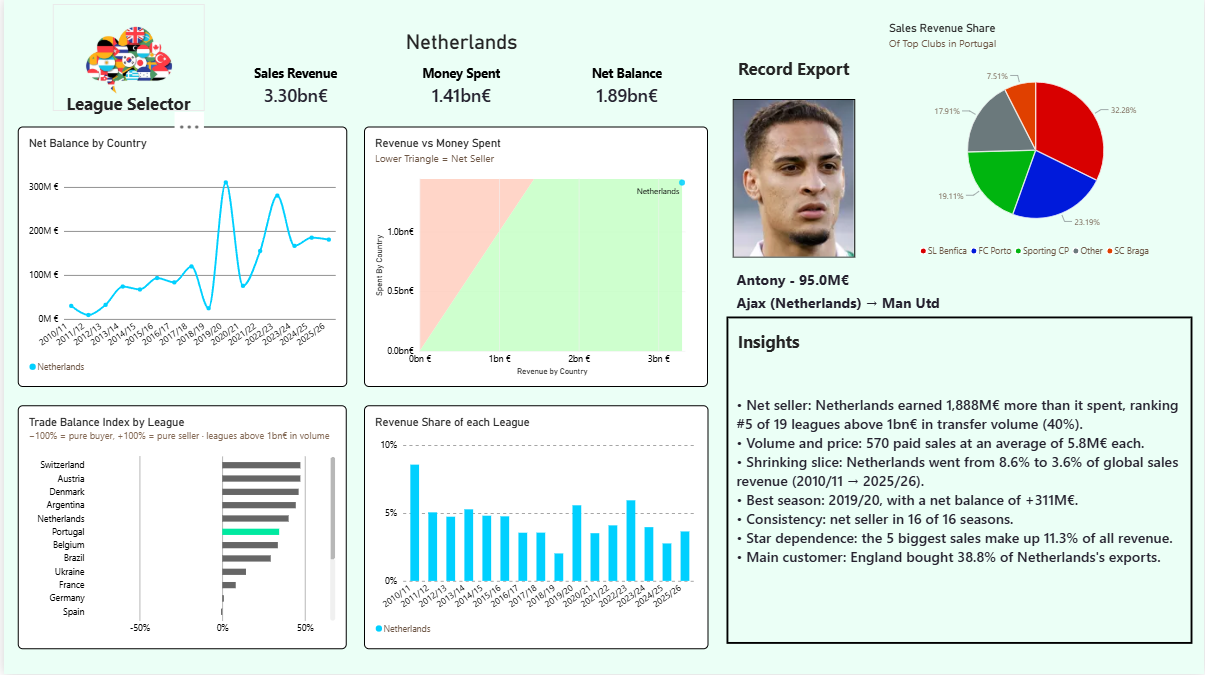

The dashboard page shown, as its layout file describes it:
{"tool":"powerbi","page":{"name":"Leagues","canvas":[1920,1080],"ordinal":0},"visuals":[{"type":"cardVisual","fields":{"Data":["_Measures.Card Revenue","_Measures.Card Spend","_Measures.Card Net Balance"]},"box":[338,50,788,126],"z":0},{"type":"lineChart","title":"Net Balance by Country","fields":{"Category":["Dates.Season"],"Series":["Countries.Country"],"Y":["_Measures.Net Balance by Country"]},"box":[21.4,204.3,527.1,417.1],"z":1000},{"type":"scatterChart","title":"Revenue vs Money Spent","fields":{"Category":["Countries.Country"],"Series":["Countries.Country"],"X":["_Measures.Revenue by Country"],"Y":["_Measures.Spend by Country"]},"box":[575.7,204.3,550,417.1],"z":2000},{"type":"clusteredBarChart","title":"Trade Balance Index by League","fields":{"Category":["Countries.Country"],"Y":["_Measures.Trade Balance Index"]},"box":[21.8,650,526.4,390],"z":3000},{"type":"clusteredColumnChart","title":"Revenue Share of each League","fields":{"Category":["Dates.Season"],"Series":["Countries.Country"],"Y":["_Measures.Revenue Share"]},"box":[575.5,650,550.9,390],"z":4000},{"type":"pieChart","title":"Sales Revenue Share","fields":{"Category":["clubs.name (groups)"],"Y":["_Measures.Sales Revenue"]},"box":[1400,22.9,501.4,411.4],"z":5000},{"type":"image","box":[1165.7,159,195.8,253.3],"z":6000},{"type":"cardVisual","fields":{"Data":["_Measures.Top Sale Label","_Measures.Top Sale Route"]},"box":[1155.7,434.3,745.7,65.7],"z":7000},{"type":"textbox","box":[1161.4,92.9,202.9,45.7],"z":8000},{"type":"cardVisual","fields":{"Data":["_Measures.Insights Leagues"]},"box":[1155.5,500.4,745.5,539.8],"z":9000},{"type":"textbox","box":[1174.5,529.6,610,48],"z":10000},{"type":"shape","box":[1156,508,745.5,523.8],"z":11000},{"type":"image","box":[78.6,8.6,244.3,168.6],"z":12000},{"type":"textbox","box":[100,148.6,201.7,48.3],"z":13502}]}

Visuals, with their boxes in screenshot pixels (x1, y1, x2, y2), scaled from the page's 1920x1080 canvas onto the 1205x675 screenshot:
cardVisual - _Measures.Card Revenue x _Measures.Card Spend: 212, 31, 707, 110
"Net Balance by Country" lineChart: 13, 128, 344, 388
"Revenue vs Money Spent" scatterChart: 361, 128, 706, 388
"Trade Balance Index by League" clusteredBarChart: 14, 406, 344, 650
"Revenue Share of each League" clusteredColumnChart: 361, 406, 707, 650
"Sales Revenue Share" pieChart: 879, 14, 1193, 271
image: 732, 99, 854, 258
cardVisual - _Measures.Top Sale Label x _Measures.Top Sale Route: 725, 271, 1193, 312
textbox: 729, 58, 856, 87
cardVisual - _Measures.Insights Leagues: 725, 313, 1193, 650
textbox: 737, 331, 1120, 361
shape: 726, 318, 1193, 645
image: 49, 5, 203, 111
textbox: 63, 93, 189, 123
